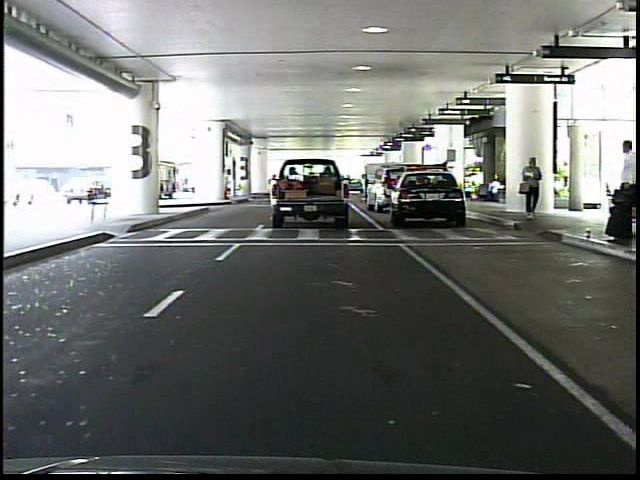person: (603, 137, 636, 243), (520, 150, 548, 225)
